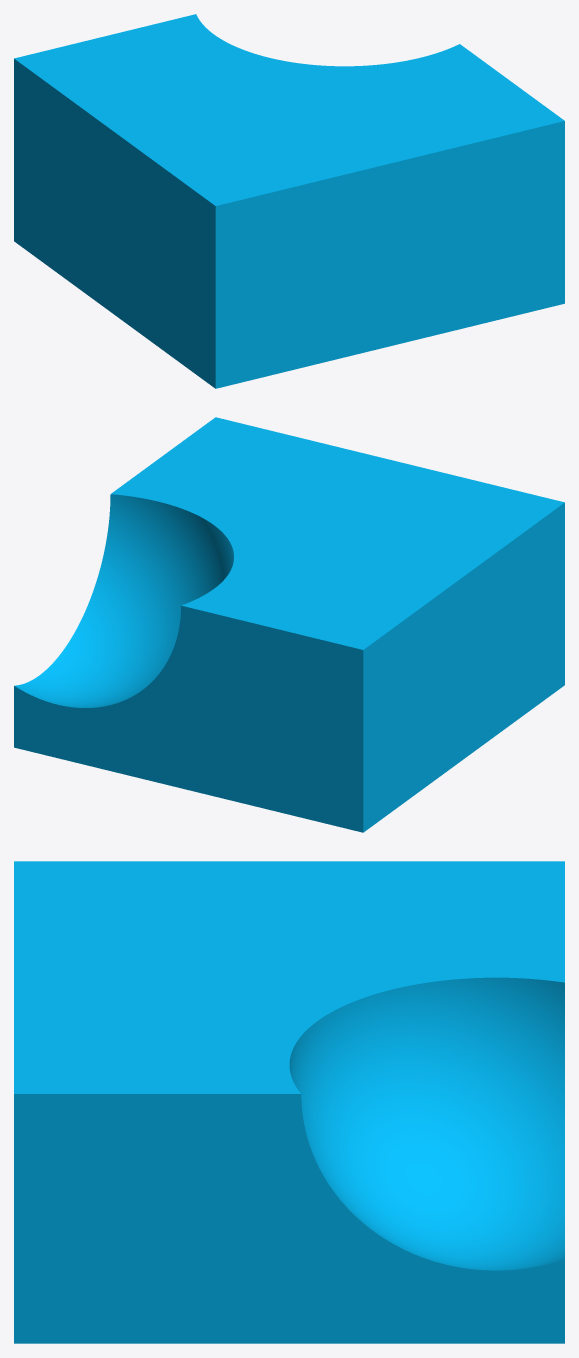
Rendered from prizma_kure_oyuk.gltf.
The picture shows the model from 3 angles, top to bottom: view 1: azimuth 30°, elevation 25°; view 2: azimuth 150°, elevation 25°; view 3: azimuth 270°, elevation 25°; orthographic projection. The views are drawn at different scales.
Parts seen in each view (by area): view 1: Gövde; view 2: Gövde; view 3: Gövde.
Part boxes in pixels (<box>): Gövde: <box>14,14,564,388</box>; Gövde: <box>14,417,564,832</box>; Gövde: <box>14,861,564,1343</box>.
Bounding box in the file's own units: 0.04 × 0.02 × 0.04.
